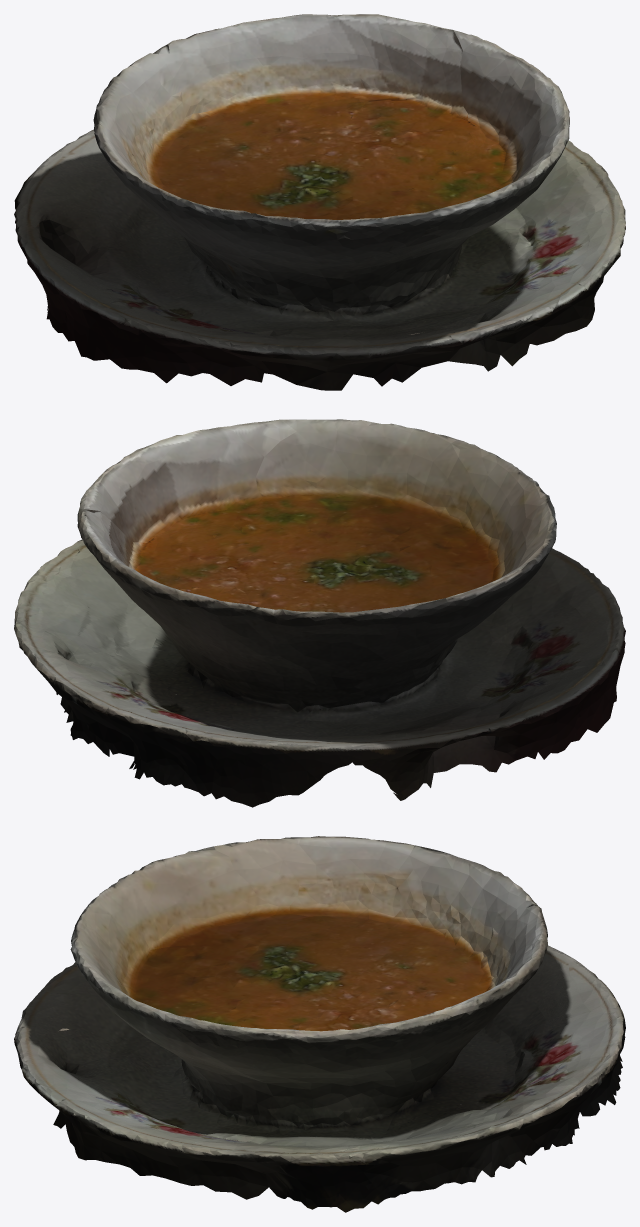
File: Frijoles_baked.glb
The picture shows the model from 3 angles, top to bottom: view 1: azimuth 30°, elevation 25°; view 2: azimuth 150°, elevation 25°; view 3: azimuth 270°, elevation 25°; orthographic projection.
Visible parts, largest first — view 1: Mesh_0; view 2: Mesh_0; view 3: Mesh_0.
Boxes of the visible parts, left/top/right/bottom form: Mesh_0: left=14, top=14, right=625, bottom=390; Mesh_0: left=14, top=419, right=625, bottom=807; Mesh_0: left=14, top=836, right=625, bottom=1212.
Size of the model in its own units: 4.09 by 1.3 by 4.08.
Materials: 1 (1 with a texture image).
